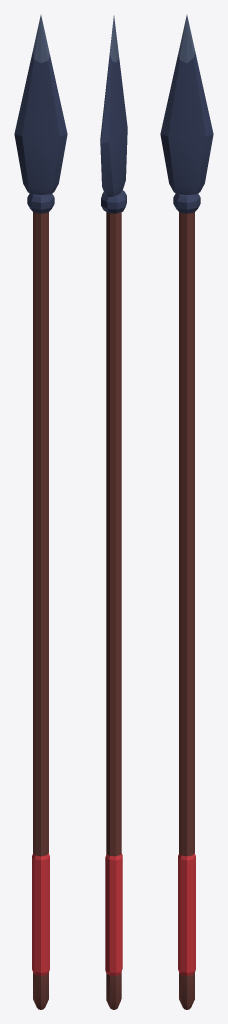
Rendered from Polearm_02.fbx.
3 renders of one model, left to right at view 1: azimuth 90°, elevation 25°; view 2: azimuth 150°, elevation 25°; view 3: azimuth 270°, elevation 25°, orthographic.
Visible parts, largest first — view 1: Polearm_02; view 2: Polearm_02; view 3: Polearm_02.
Boxes of the visible parts, x1,y1,x2,y2 form: Polearm_02: [14, 15, 67, 1009]; Polearm_02: [100, 15, 127, 1009]; Polearm_02: [160, 15, 213, 1009].
Size of the model in its own units: 6.47 by 262 by 12.69.
